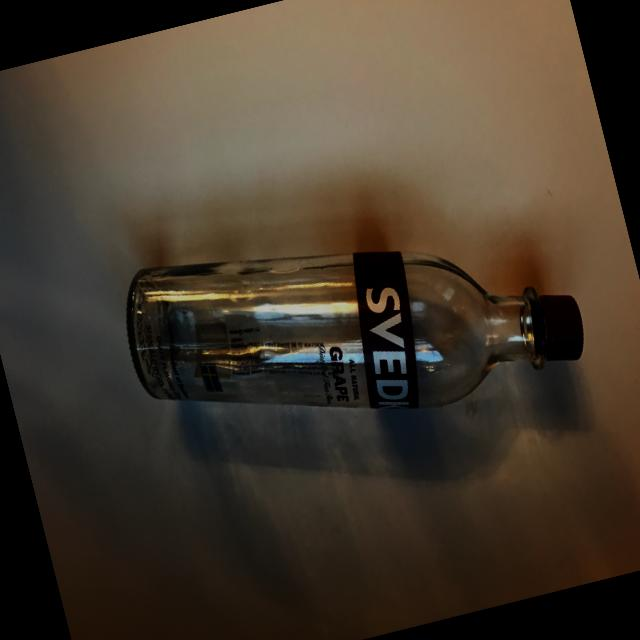Glass: (97, 144, 606, 491)
